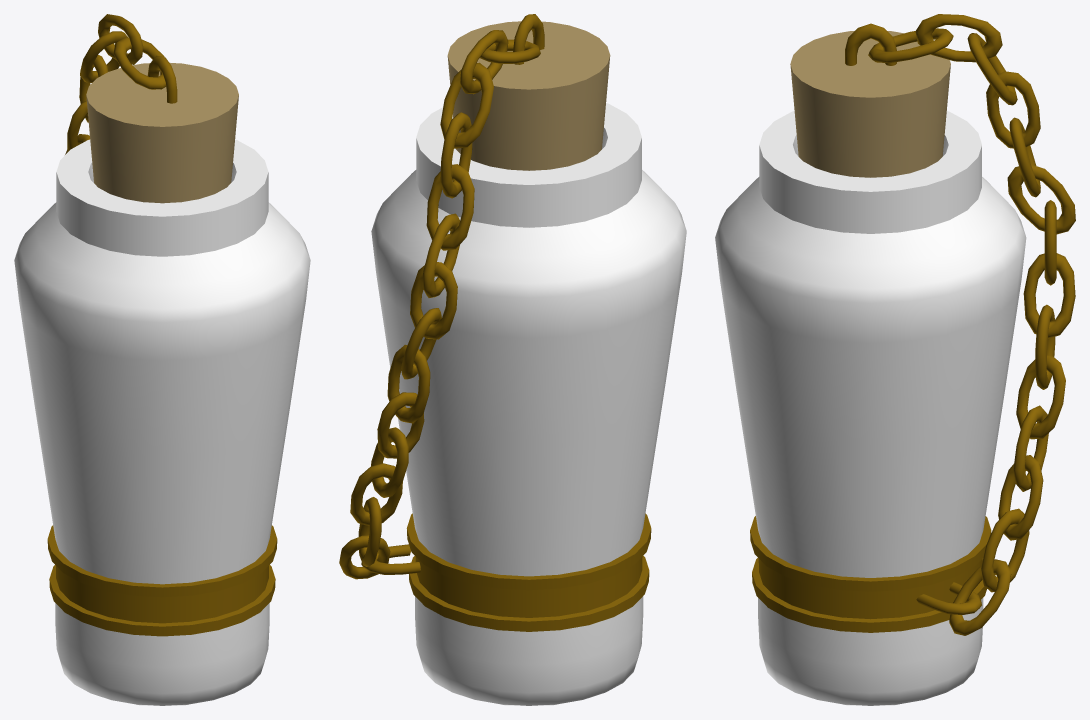
The model's file is health_potion.fbx.
3 views of the same model, side by side, from view 1: azimuth 30°, elevation 25°; view 2: azimuth 150°, elevation 25°; view 3: azimuth 270°, elevation 25° (orthographic). The views are drawn at different scales.
Visible parts, largest first — view 1: HealthPotion; view 2: HealthPotion; view 3: HealthPotion.
Boxes of the visible parts, x1=… form: HealthPotion: x1=14, y1=14, x2=310, y2=705; HealthPotion: x1=339, y1=14, x2=686, y2=705; HealthPotion: x1=715, y1=14, x2=1075, y2=705.
Bounding box in the file's own units: 0.2917 × 0.677 × 0.3381.
